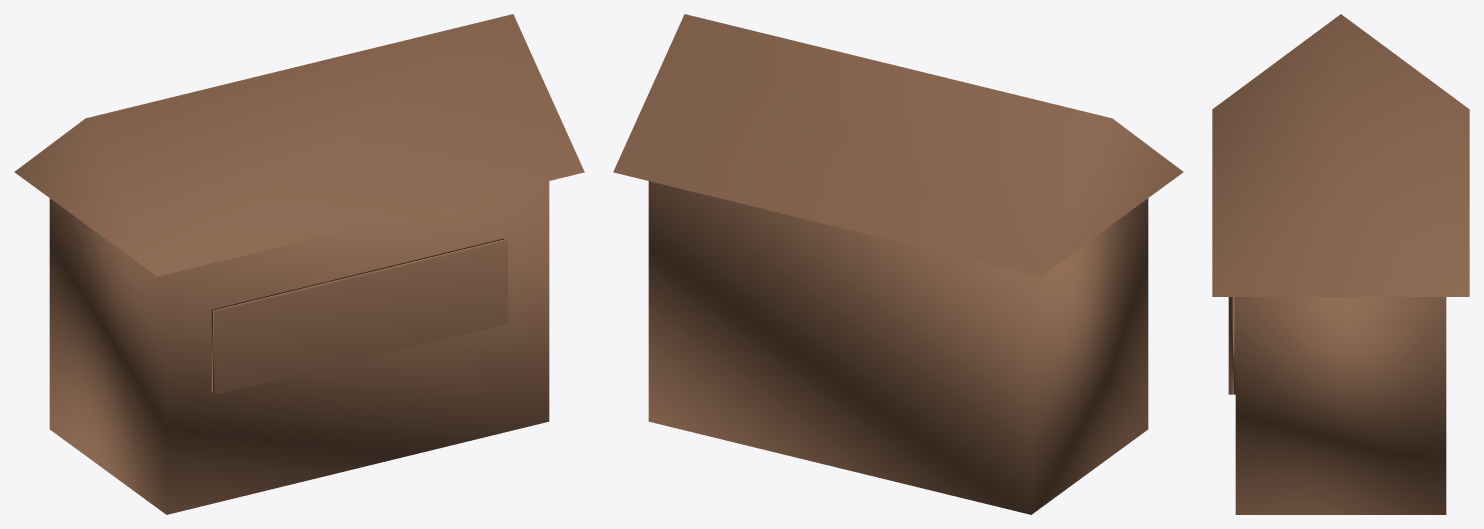
File: shop.obj
3 renders of one model, left to right at view 1: azimuth 30°, elevation 25°; view 2: azimuth 150°, elevation 25°; view 3: azimuth 270°, elevation 25°, orthographic. The views are drawn at different scales.
Bounding box in the file's own units: 3.8 × 3.05 × 2.2.
